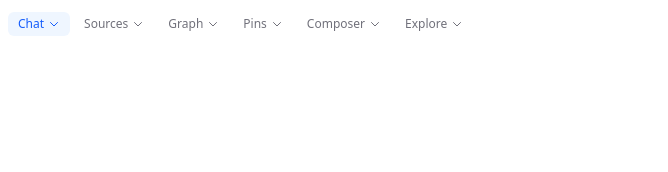
Test: ConversationTabs › renders Explore tab dropdown
Click the button "Explore" at (434, 24), box [395,12,473,36]
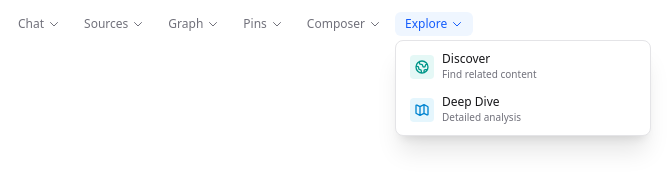
Now the text "Discover" is shown, box [442,50,490,67]
Now the text "Deep Dive" is shown, box [442,93,500,110]
